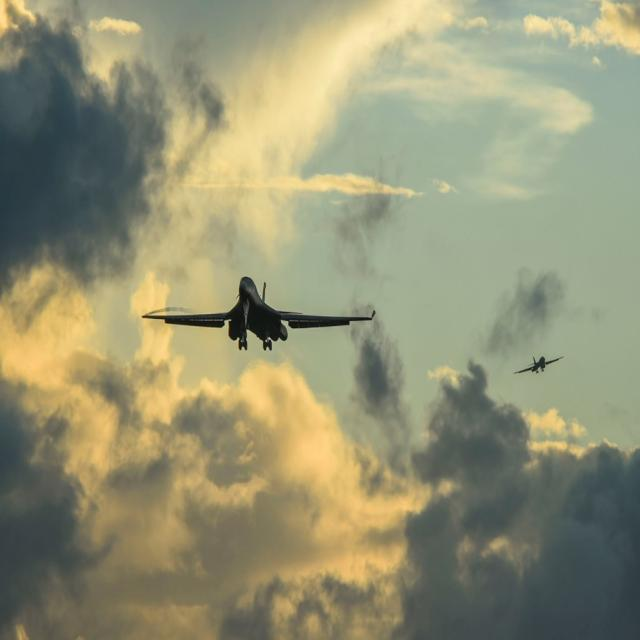MIL_Plane: (141, 276, 373, 351), (512, 359, 564, 372)
